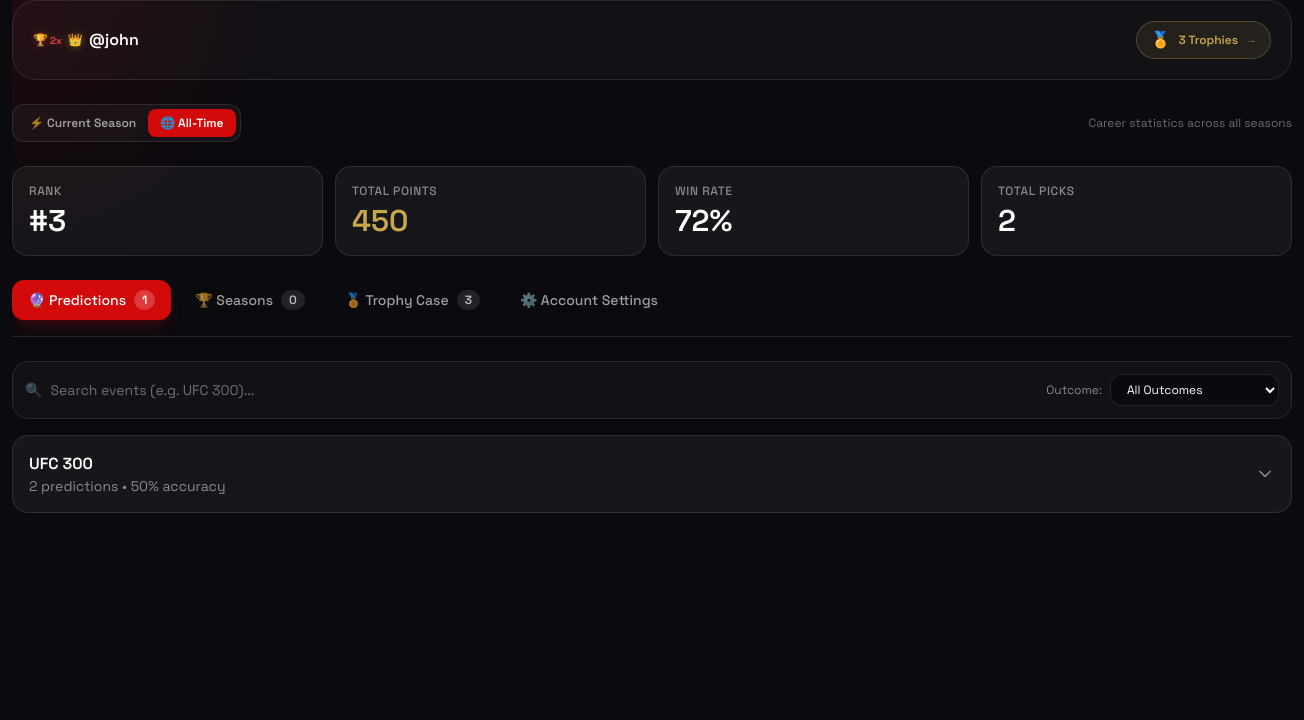
Test: ProfileView › clicking the header trophy pill switches to Trophy Case tab
Click the button with aria-label "View trophies". click: (1203, 40)
box: [1136,21,1271,59]
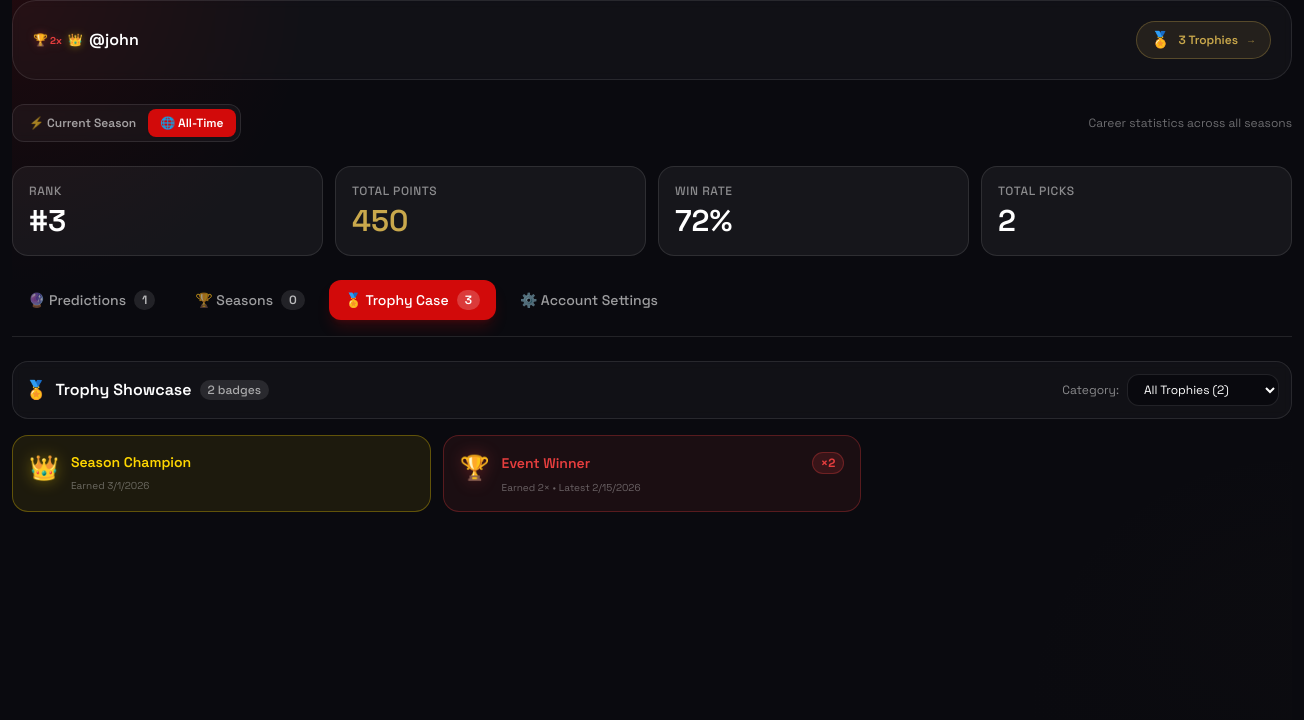
Now the heading "Trophy Showcase" is shown, box [56,378,192,402]
